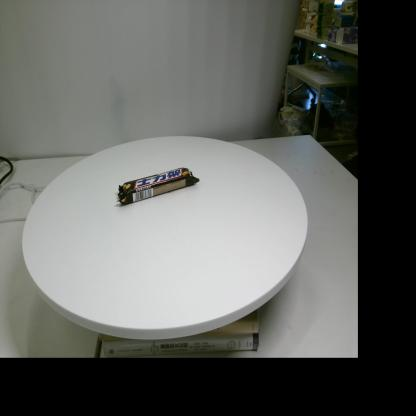Chocolate: (116, 167, 200, 205)
